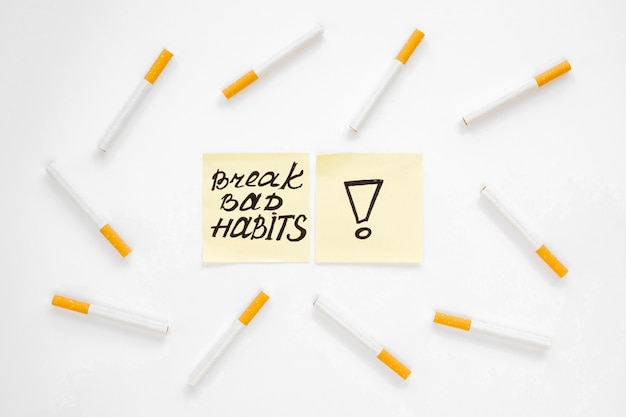cigarette: (310, 293, 412, 380), (43, 161, 132, 259), (188, 287, 271, 388), (480, 184, 569, 278), (348, 29, 426, 134), (96, 48, 174, 153), (459, 57, 573, 128), (222, 23, 324, 99), (48, 292, 171, 336), (429, 311, 552, 350)
